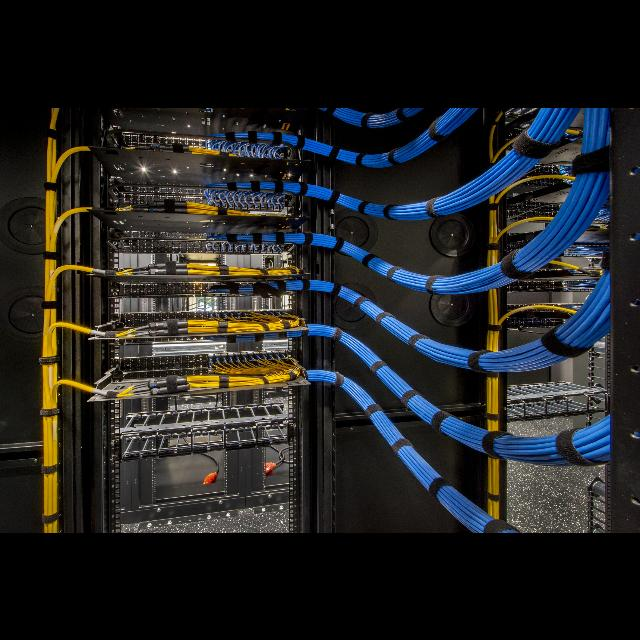Server: (88, 111, 300, 533)
